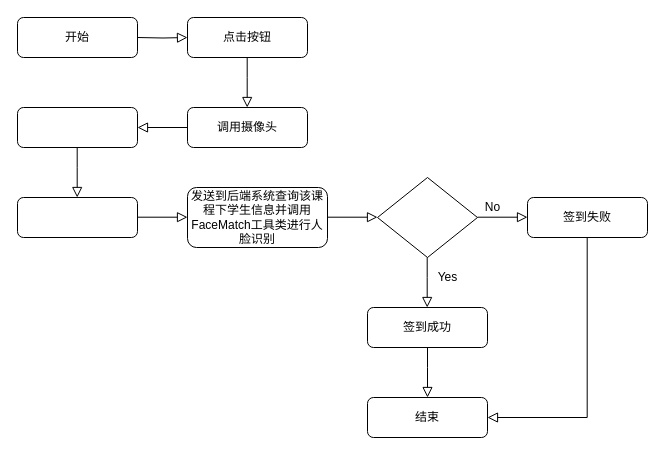
This 665x455 diagram has some shape labels left out. The box of each missing label's shape, as (x1, y1, x2, y2) in pixels:
将canvas容器内图像转为图片后再转为Base64编码: (16, 196, 138, 238)
捕获人脸图像存入canvas容器: (16, 106, 138, 148)
是否为同一个人: (376, 176, 478, 258)
